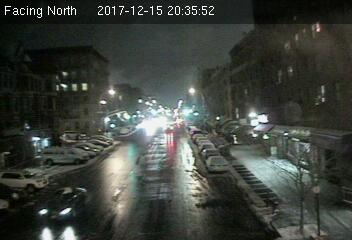car: (35, 186, 89, 220), (203, 154, 230, 174)
